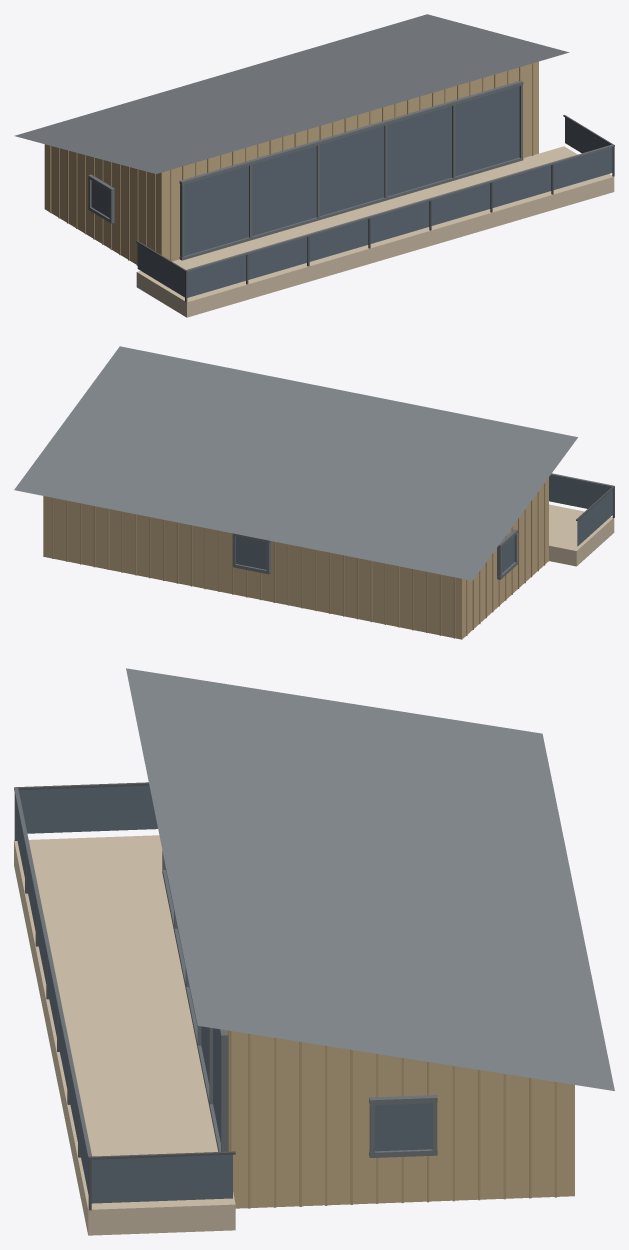
The picture shows the model from 3 angles, top to bottom: view 1: azimuth 30°, elevation 25°; view 2: azimuth 150°, elevation 25°; view 3: azimuth 270°, elevation 25°; orthographic projection. The views are drawn at different scales.
Visible parts, largest first — view 1: slate, door_wood, larch, slate_dk, window_glass_010, window_glass_014, window_glass_011, window_glass_012, window_glass_013, door_wood_p, window_glass_004, window_glass_006 (+9 smaller); view 2: slate, door_wood, door_wood_p, larch, window_glass_001, slate_dk, window_glass_008, window_glass_016; view 3: slate, larch, door_wood, window_glass_009, slate_dk, window_glass_008, door_wood_p, window_glass_015, pipe, window_glass_014.
Part boxes in pixels (x1,y1,x2,y2): slate: (14,14,569,173); door_wood: (44,61,538,264); larch: (136,146,614,317); slate_dk: (88,80,614,271); window_glass_010: (184,165,248,255); window_glass_014: (455,86,519,176); window_glass_011: (252,146,316,235); window_glass_012: (320,126,384,216); window_glass_013: (387,106,451,196); door_wood_p: (49,63,533,265); window_glass_004: (370,201,429,243); window_glass_006: (492,165,551,207); slate: (14,346,577,580); door_wood: (43,477,548,639); door_wood_p: (52,482,545,638); larch: (549,504,614,566); window_glass_001: (549,475,610,508); slate_dk: (232,473,613,579); window_glass_008: (577,489,613,546); window_glass_016: (236,536,266,569); slate: (126,668,614,1090); larch: (14,835,235,1235); door_wood: (228,1030,574,1208); window_glass_009: (91,1154,232,1203); slate_dk: (14,787,437,1157); window_glass_008: (18,785,157,833); door_wood_p: (226,1030,556,1208); window_glass_015: (375,1103,432,1151); pipe: (14,782,235,1210); window_glass_014: (213,1028,220,1142).
Bounding box in the file's own units: 15.93 × 3.88 × 10.56.
